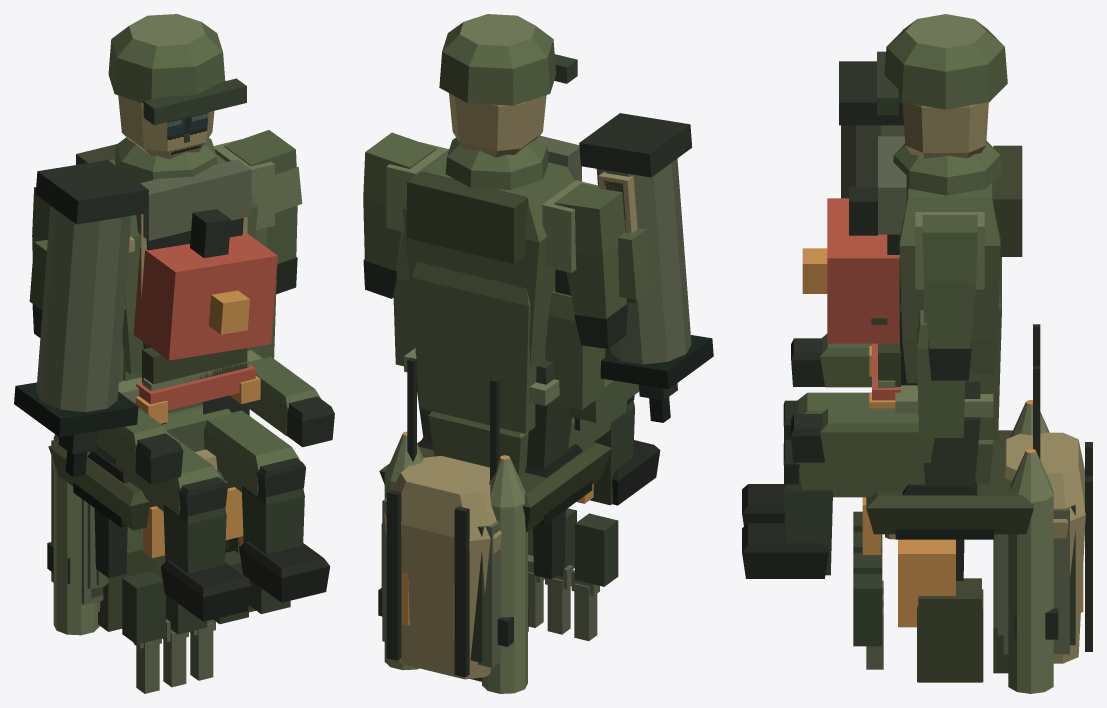
Rendered from military_people.glb.
3 views of the same model, side by side, from view 1: azimuth 30°, elevation 25°; view 2: azimuth 150°, elevation 25°; view 3: azimuth 270°, elevation 25° (orthographic). The views are drawn at different scales.
Parts seen in each view (by area): view 1: BAZOOKA_WEAPON, BOMBER_WEAPON, AK_HEAD, AK_BODY, BAZOOKA_BODY, Kit.001, Kit.005, AK_ARM_R, ThighRight, Kit, BootRight, Boot (+23 smaller); view 2: AK_BODY, Kit.003, BAZOOKA_WEAPON, Torso, AK_HEAD, Kit.005, AK_ARM_L, AK_ARM_R, Kit.006, UpperArm, Kit, AK_LEG_L (+13 smaller); view 3: AK_HEAD, AK_BODY, BOMBER_WEAPON, Kit.005, AK_ARM_R, Kit.006, Kit.003, PickupBenchCushion, Kit, ForearmRight, BAZOOKA_WEAPON, AK_LEG_R (+20 smaller).
Part boxes in pixels (x1=…): BAZOOKA_WEAPON: x1=14, y1=160, x2=148, y2=436; BOMBER_WEAPON: x1=133, y1=209, x2=277, y2=360; AK_HEAD: x1=108, y1=14, x2=246, y2=158; AK_BODY: x1=76, y1=139, x2=274, y2=403; BAZOOKA_BODY: x1=136, y1=159, x2=251, y2=240; Kit.001: x1=96, y1=527, x2=290, y2=644; Kit.005: x1=47, y1=434, x2=99, y2=635; AK_ARM_R: x1=224, y1=130, x2=302, y2=294; ThighRight: x1=204, y1=410, x2=299, y2=496; Kit: x1=133, y1=537, x2=239, y2=693; BootRight: x1=239, y1=541, x2=330, y2=602; Boot: x1=161, y1=560, x2=251, y2=621; AK_BODY: x1=386, y1=142, x2=597, y2=405; Kit.003: x1=382, y1=455, x2=501, y2=679; BAZOOKA_WEAPON: x1=579, y1=113, x2=713, y2=389; Torso: x1=412, y1=262, x2=545, y2=433; AK_HEAD: x1=439, y1=14, x2=577, y2=157; Kit.005: x1=378, y1=431, x2=528, y2=693; AK_ARM_L: x1=554, y1=183, x2=627, y2=348; AK_ARM_R: x1=363, y1=132, x2=436, y2=298; Kit.006: x1=382, y1=358, x2=499, y2=667; UpperArm: x1=545, y1=290, x2=605, y2=409; Kit: x1=381, y1=523, x2=599, y2=640; AK_LEG_L: x1=524, y1=360, x2=592, y2=525; AK_HEAD: x1=877, y1=14, x2=1007, y2=158; AK_BODY: x1=871, y1=145, x2=1022, y2=417; BOMBER_WEAPON: x1=802, y1=187, x2=899, y2=343; Kit.005: x1=1008, y1=400, x2=1058, y2=693; AK_ARM_R: x1=922, y1=215, x2=977, y2=380; Kit.006: x1=898, y1=324, x2=1069, y2=654; Kit.003: x1=917, y1=432, x2=1092, y2=682; PickupBenchCushion: x1=866, y1=430, x2=1033, y2=534; Kit: x1=866, y1=578, x2=981, y2=682; ForearmRight: x1=820, y1=408, x2=934, y2=462; BAZOOKA_WEAPON: x1=839, y1=61, x2=904, y2=198; AK_LEG_R: x1=895, y1=377, x2=993, y2=539.
Bounding box in the file's own units: 1.16 × 2.42 × 1.21.
1 material, 1 textured.
